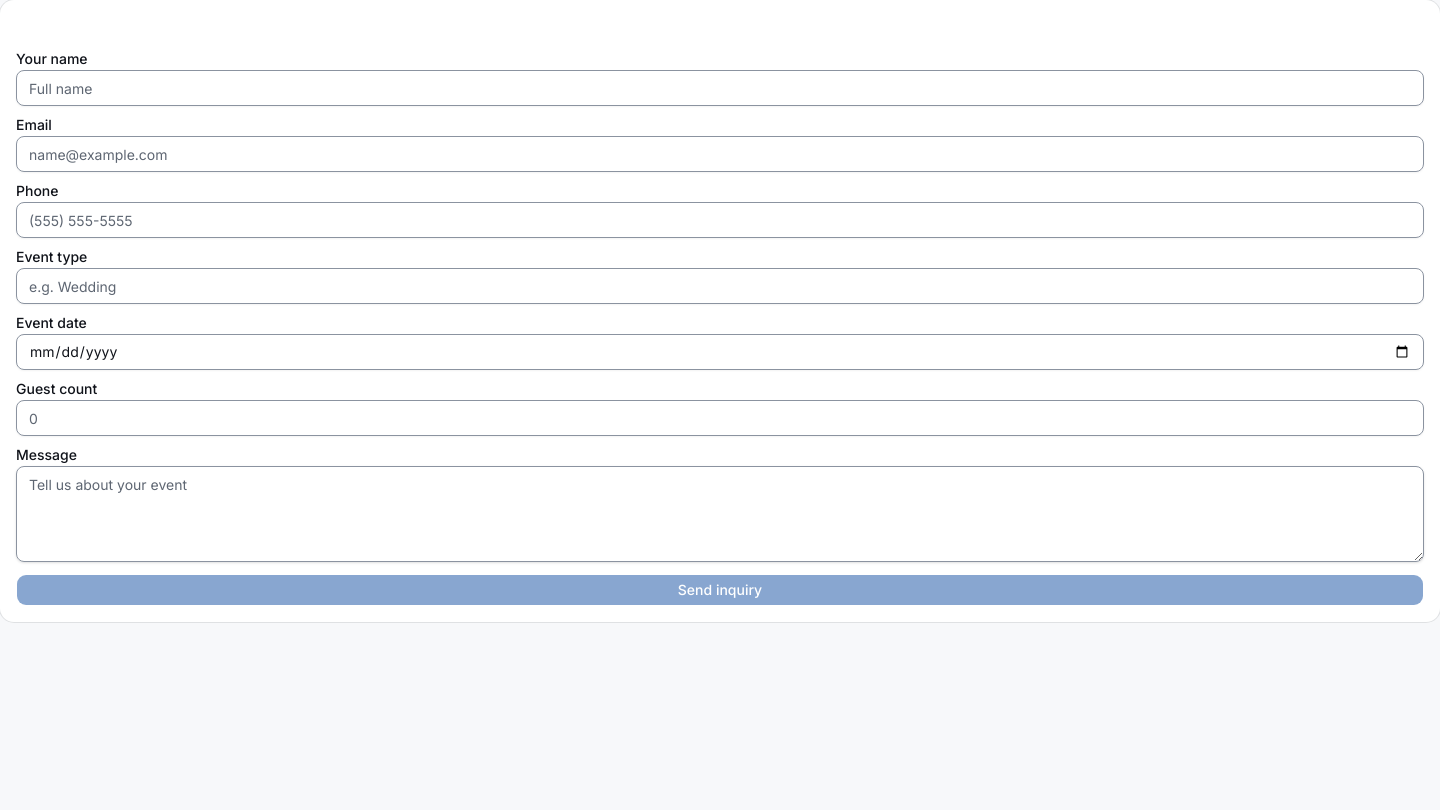
Scenario: IntakeForm › renders the action error in the aria-live region
The image size is (1440, 810).
Step 1. Type "Ada" into the field labelled "Your name" → (720, 88), box [16,70,1424,106]
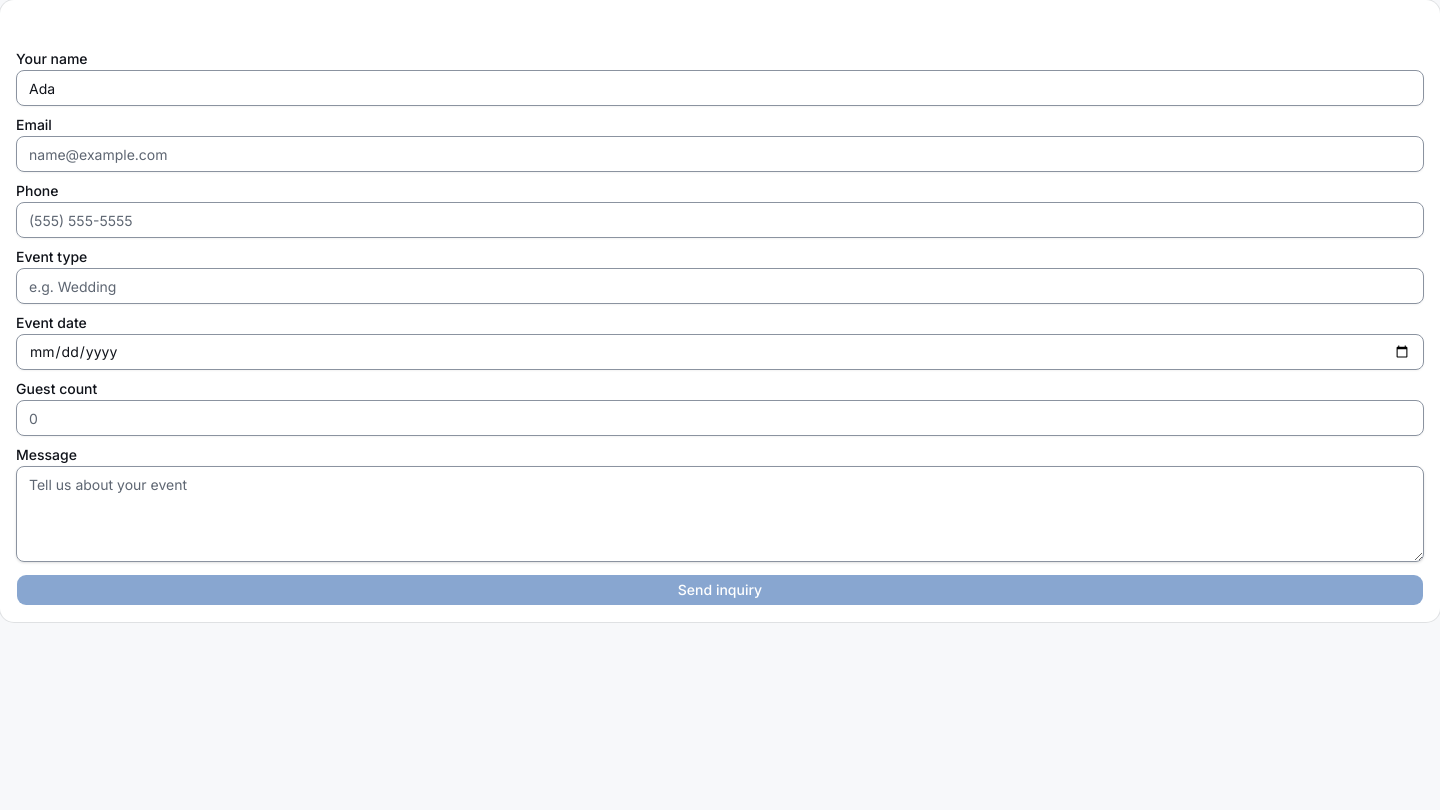
Step 2. Type "ada@example.com" into the field labelled "Email" → (720, 154), box [16,136,1424,172]
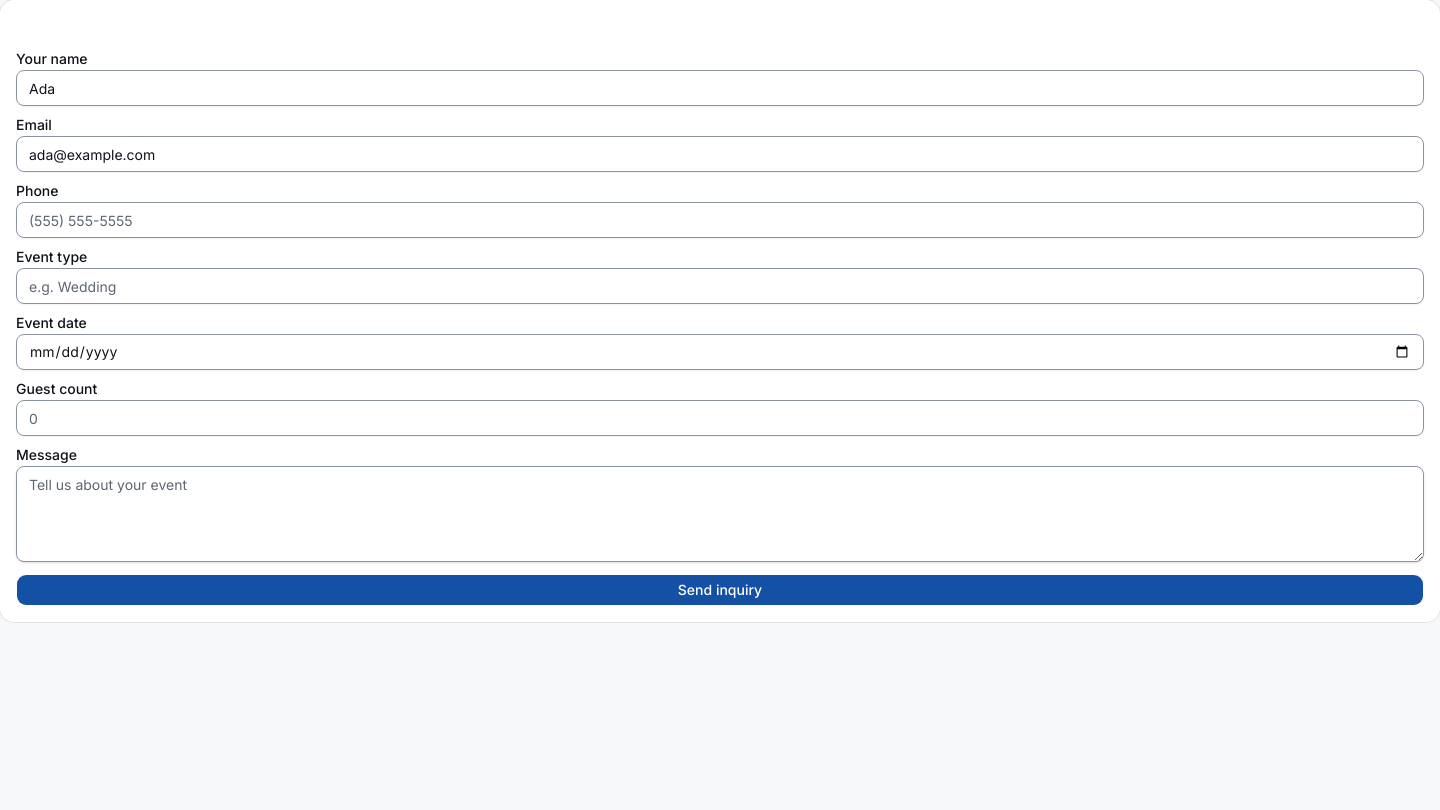
Step 3. Click the button "Send inquiry" → (720, 590), box [16,574,1424,606]
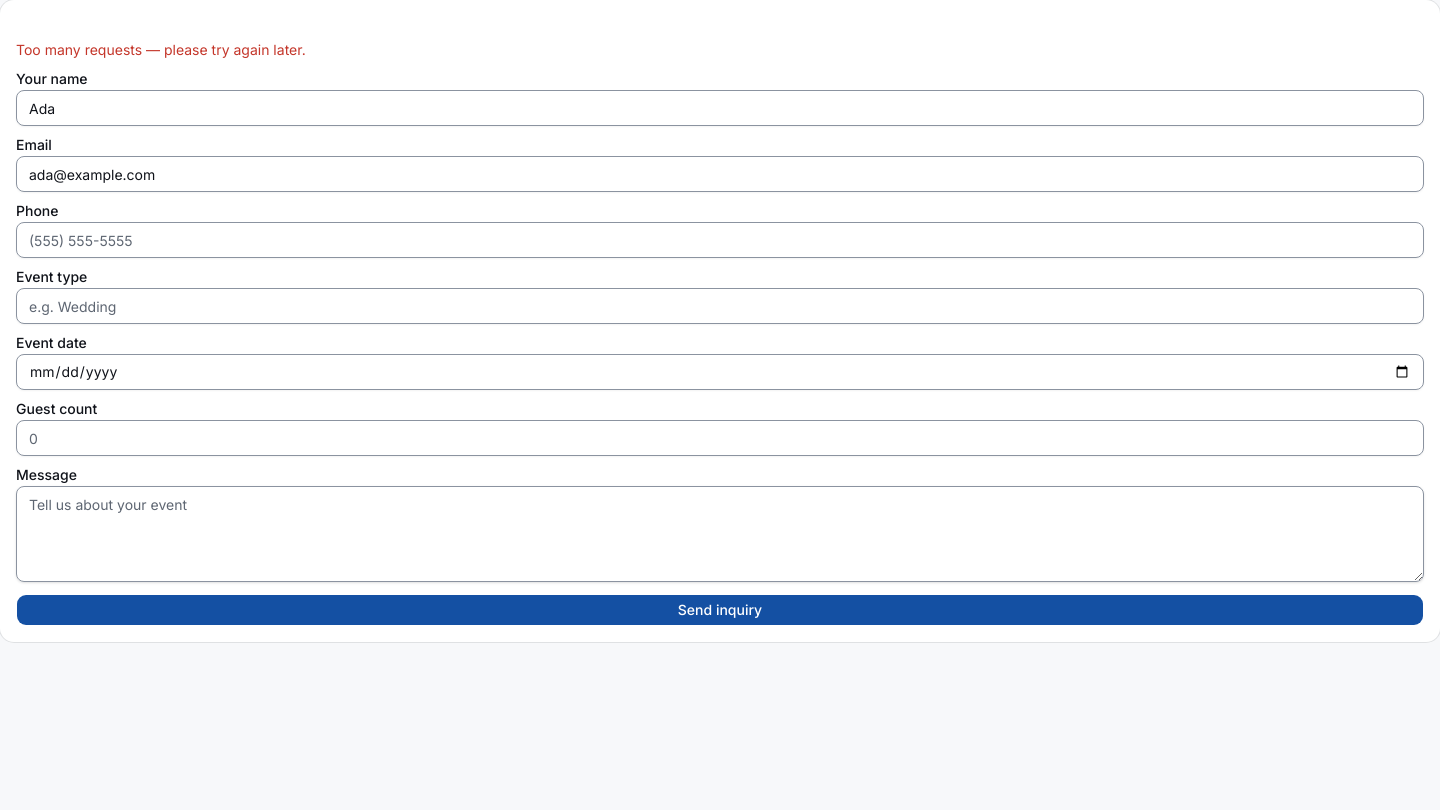
Expected: the text "Too many requests — please try again later." is shown, [16,41,306,58]
